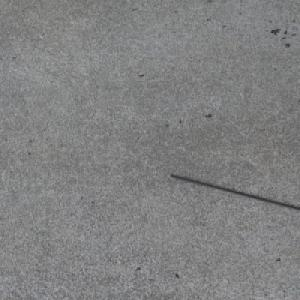LuggagePart: (168, 173, 300, 210)
